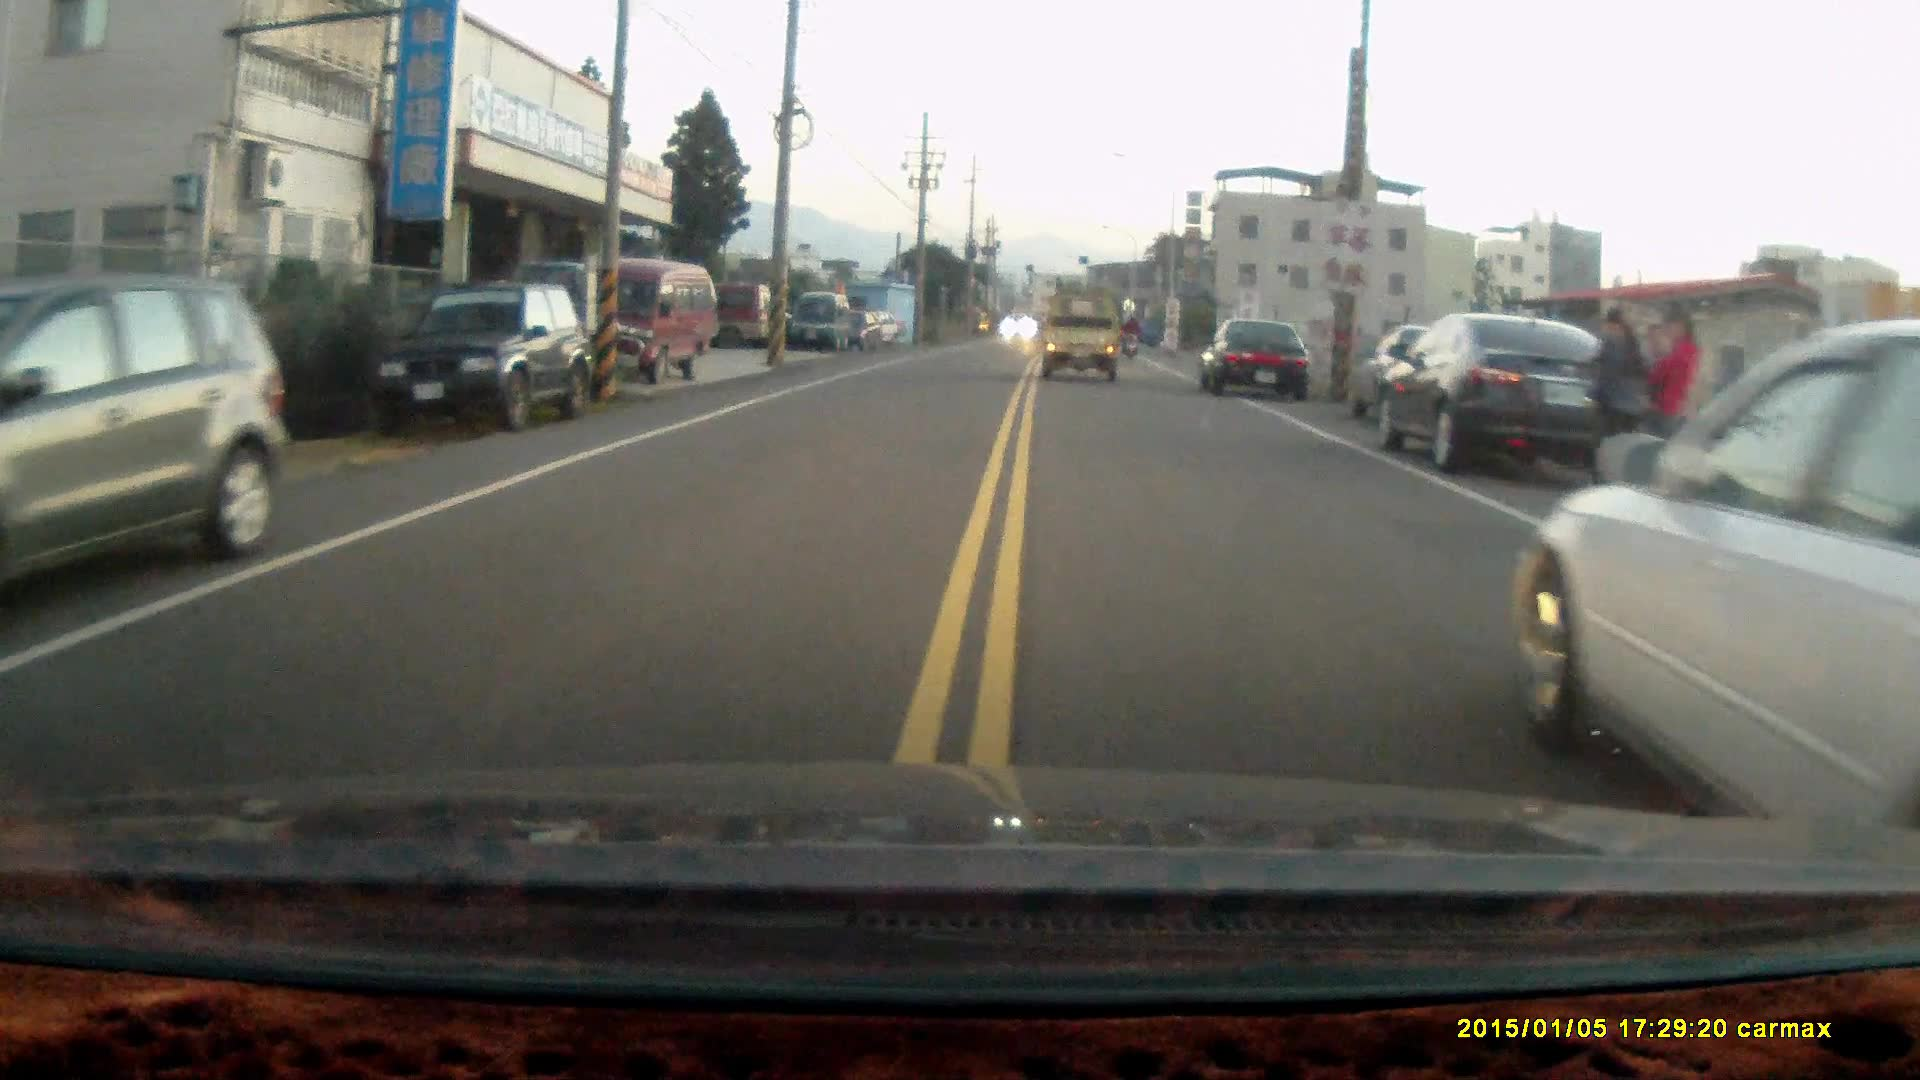pedestrian: (1575, 305, 1648, 510), (1635, 310, 1704, 511)
vehicle: (1512, 317, 1920, 838), (2, 268, 293, 617), (1369, 315, 1649, 480), (375, 279, 583, 433), (557, 255, 724, 383), (1201, 319, 1314, 401), (1036, 288, 1122, 382), (785, 292, 853, 350)
